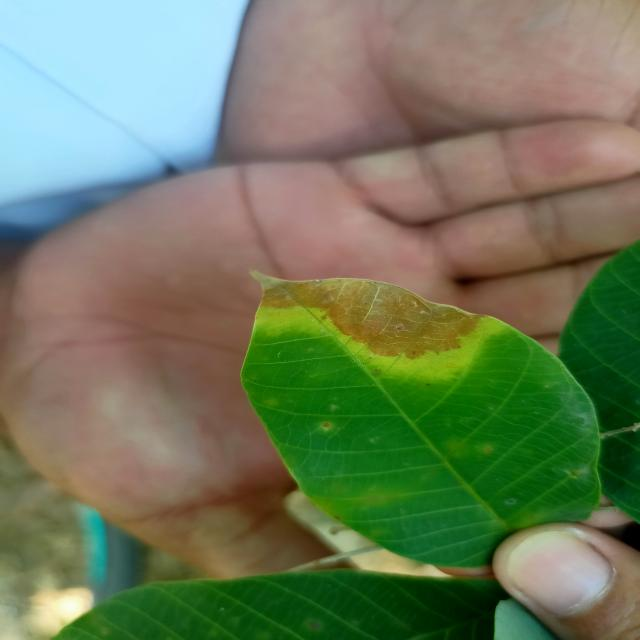Leaf-Blight: (247, 268, 487, 359)
